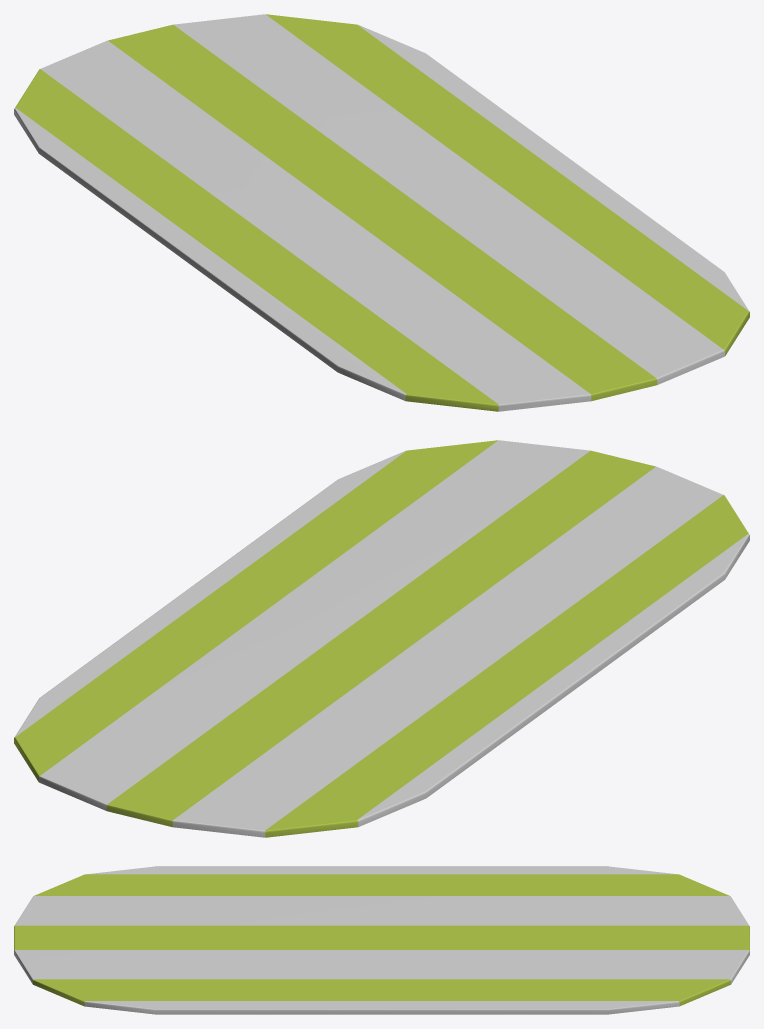
Rendered from Carpet.fbx.
3 renders of one model, top to bottom at view 1: azimuth 30°, elevation 25°; view 2: azimuth 150°, elevation 25°; view 3: azimuth 270°, elevation 25°, orthographic. The views are drawn at different scales.
Parts seen in each view (by area): view 1: pCube10; view 2: pCube10; view 3: pCube10.
Boxes of the visible parts, box(x1,y1,x2,y2) form: pCube10: box(14, 14, 749, 411); pCube10: box(14, 440, 749, 837); pCube10: box(14, 866, 749, 1014).
Bounding box in the file's own units: 1.42 × 0.0231 × 3.08.
